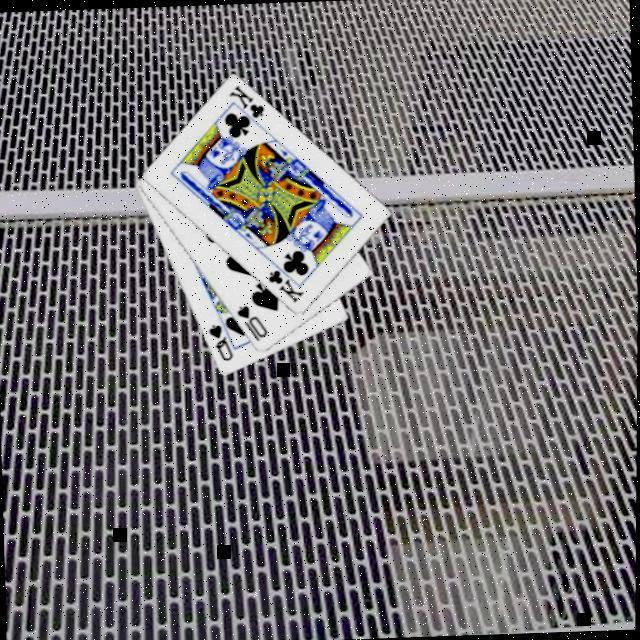10S: (232, 300, 270, 342)
KC: (263, 256, 307, 304), (224, 80, 268, 128)
QS: (203, 318, 236, 363)
